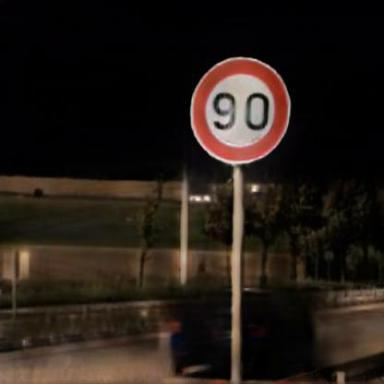Speed_limit_90: (192, 59, 288, 162)
